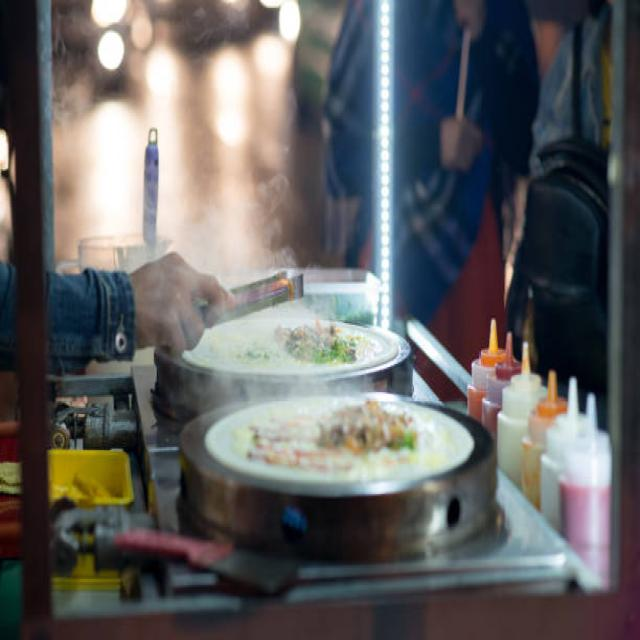Emperan: (47, 147, 640, 640)
